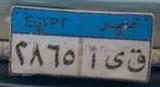2: (14, 40, 29, 66)
5: (61, 48, 78, 67)
6: (47, 43, 61, 66)
8: (29, 42, 43, 68)
alif: (87, 46, 98, 71)
qaaf: (125, 48, 148, 72)
yaa: (105, 49, 124, 70)
